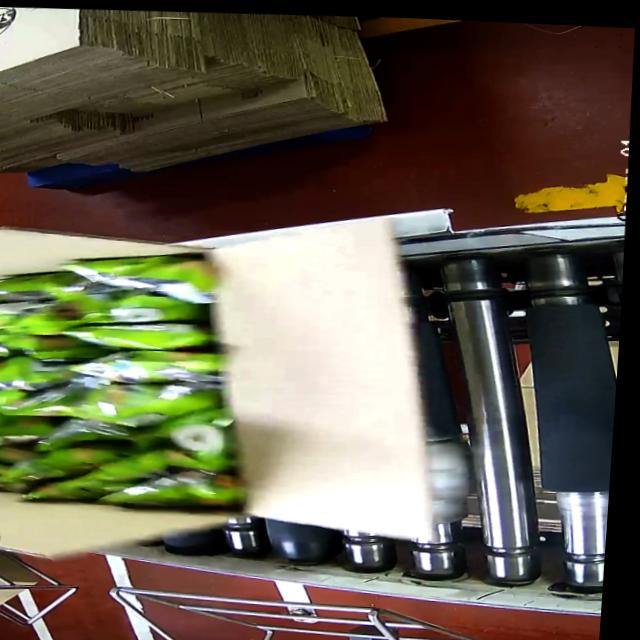YOGURT_HERB: (0, 243, 262, 517)
